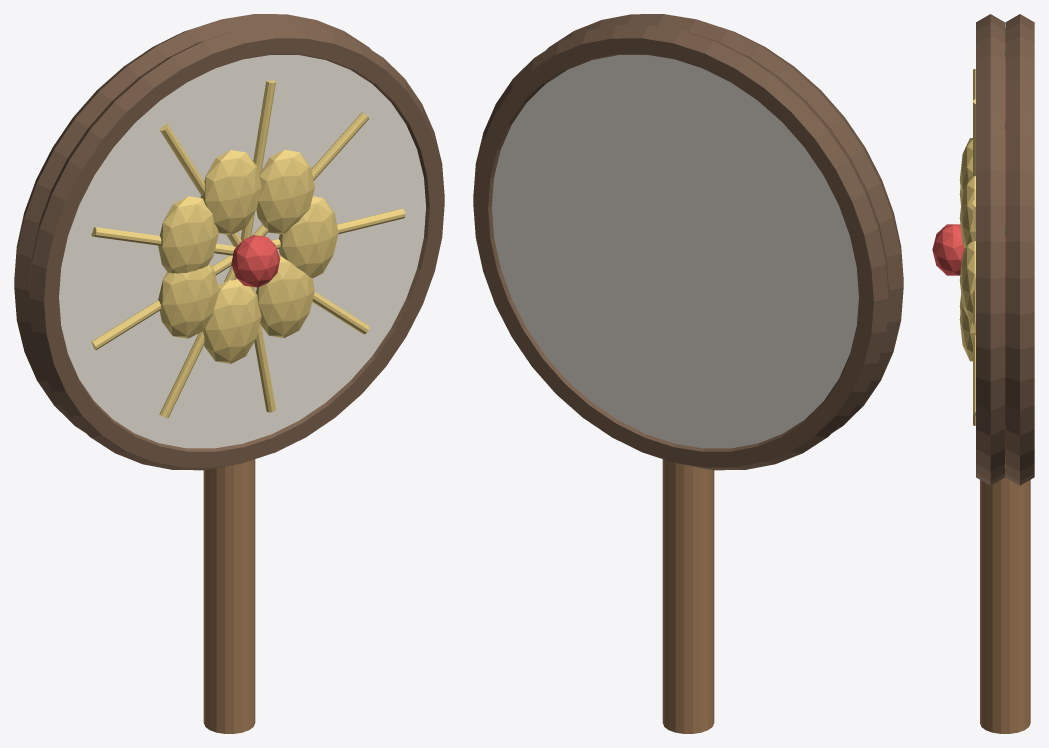
File: gakki_uchiwa_daiko.glb
3 renders of one model, left to right at view 1: azimuth 30°, elevation 25°; view 2: azimuth 150°, elevation 25°; view 3: azimuth 270°, elevation 25°, orthographic.
Parts seen in each view (by area): view 1: Uchiwa drum thin painted frame taut drum skin, Uchiwa drum thin painted frame leather head rim, Uchiwa drum long bamboo shaft, Uchiwa drum thin painted frame leather head rim.001, Painted Nichiren lotus petal.001, Painted Nichiren lotus petal.002, Painted Nichiren lotus petal.003, Painted Nichiren lotus petal.005, Painted Nichiren lotus petal.004, Painted Nichiren lotus petal.006, Painted Nichiren lotus petal, Painted Nichiren lotus center (+9 smaller); view 2: Uchiwa drum thin painted frame taut drum skin.001, Uchiwa drum thin painted frame leather head rim.001, Uchiwa drum long bamboo shaft, Uchiwa drum thin painted frame leather head rim; view 3: Uchiwa drum thin painted frame leather head rim.001, Uchiwa drum thin painted frame leather head rim, Uchiwa drum long bamboo shaft, Painted Nichiren lotus center, Painted Nichiren lotus petal, Painted Nichiren lotus petal.001, Painted Nichiren lotus petal.006, Painted Nichiren lotus petal.002, Uchiwa drum thin painted frame hardwood shell, Drum raised rays.008, Drum raised rays.002.
Part boxes in pixels (left/top/right/bottom): Uchiwa drum thin painted frame taut drum skin: left=59, top=55, right=425, bottom=448; Uchiwa drum thin painted frame leather head rim: left=29, top=25, right=444, bottom=470; Uchiwa drum long bamboo shaft: left=203, top=459, right=255, bottom=733; Uchiwa drum thin painted frame leather head rim.001: left=14, top=14, right=371, bottom=432; Painted Nichiren lotus petal.001: left=256, top=149, right=314, bottom=234; Painted Nichiren lotus petal.002: left=200, top=150, right=261, bottom=234; Painted Nichiren lotus petal.003: left=158, top=196, right=218, bottom=273; Painted Nichiren lotus petal.005: left=203, top=279, right=261, bottom=363; Painted Nichiren lotus petal.004: left=158, top=263, right=218, bottom=338; Painted Nichiren lotus petal.006: left=256, top=255, right=314, bottom=338; Painted Nichiren lotus petal: left=278, top=196, right=338, bottom=278; Painted Nichiren lotus center: left=231, top=235, right=280, bottom=287; Uchiwa drum thin painted frame taut drum skin.001: left=492, top=55, right=858, bottom=448; Uchiwa drum thin painted frame leather head rim.001: left=473, top=25, right=888, bottom=470; Uchiwa drum long bamboo shaft: left=662, top=459, right=714, bottom=733; Uchiwa drum thin painted frame leather head rim: left=546, top=14, right=903, bottom=432; Uchiwa drum thin painted frame leather head rim.001: left=1005, top=14, right=1034, bottom=485; Uchiwa drum thin painted frame leather head rim: left=976, top=14, right=1004, bottom=485; Uchiwa drum long bamboo shaft: left=980, top=471, right=1030, bottom=733; Painted Nichiren lotus center: left=932, top=224, right=964, bottom=275; Painted Nichiren lotus petal: left=959, top=241, right=975, bottom=321; Painted Nichiren lotus petal.001: left=959, top=176, right=975, bottom=248; Painted Nichiren lotus petal.006: left=959, top=301, right=975, bottom=361; Painted Nichiren lotus petal.002: left=959, top=138, right=972, bottom=198; Uchiwa drum thin painted frame hardwood shell: left=1005, top=35, right=1005, bottom=462; Drum raised rays.008: left=973, top=335, right=975, bottom=415; Drum raised rays.002: left=973, top=99, right=975, bottom=175.
Bounding box in the file's own units: 1.21 × 1.95 × 0.2628.
